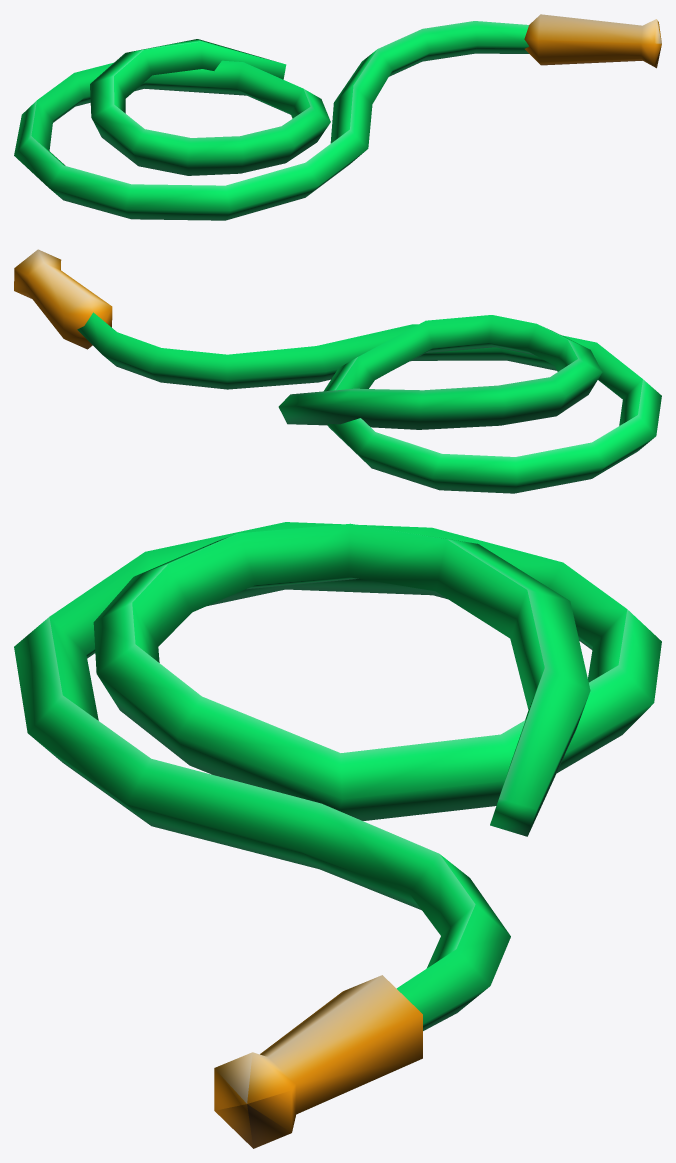
Rendered from Hose_1A.fbx.
The picture shows the model from 3 angles, top to bottom: view 1: azimuth 30°, elevation 25°; view 2: azimuth 150°, elevation 25°; view 3: azimuth 270°, elevation 25°; orthographic projection. The views are drawn at different scales.
Parts seen in each view (by area): view 1: Hose_1A; view 2: Hose_1A; view 3: Hose_1A.
Boxes of the visible parts, x1,y1,x2,y2 form: Hose_1A: (14,14,661,220); Hose_1A: (14,249,661,493); Hose_1A: (14,522,661,1148).
Size of the model in its own units: 141 by 17.05 by 66.93.
